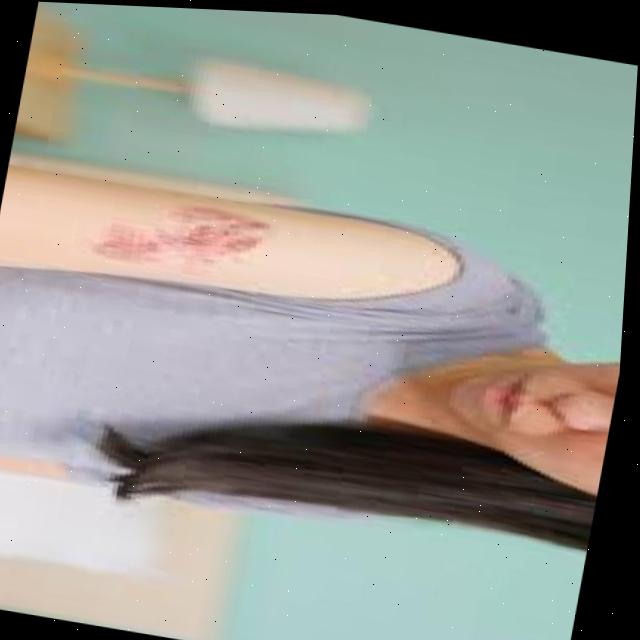Eczema: (105, 201, 274, 278)
